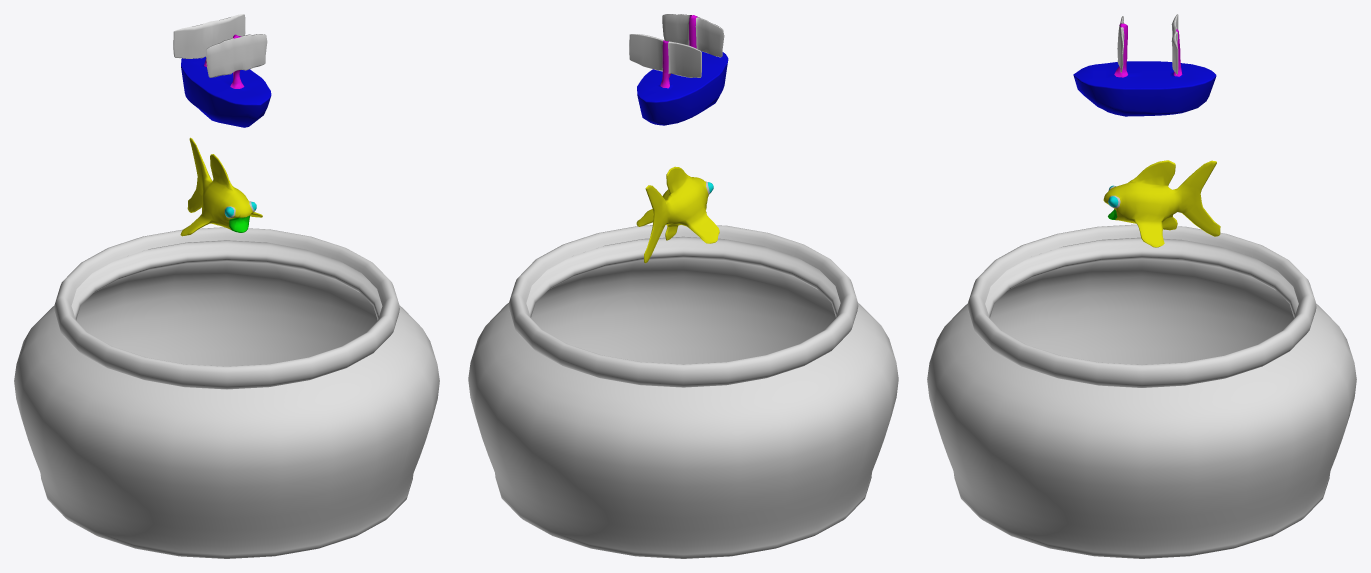
File: Fishbowl.fbx
3 renders of one model, left to right at view 1: azimuth 30°, elevation 25°; view 2: azimuth 150°, elevation 25°; view 3: azimuth 270°, elevation 25°, orthographic.
Parts seen in each view (by area): view 1: Bowl1, Boat4, Goldfish1; view 2: Bowl1, Boat4, Goldfish1; view 3: Bowl1, Boat4, Goldfish1.
Part boxes in pixels (left/top/right/bottom): Bowl1: left=14, top=227, right=439, bottom=558; Boat4: left=173, top=14, right=271, bottom=127; Goldfish1: left=180, top=137, right=262, bottom=236; Bowl1: left=468, top=224, right=898, bottom=558; Boat4: left=629, top=14, right=728, bottom=125; Goldfish1: left=636, top=166, right=719, bottom=263; Bowl1: left=927, top=224, right=1356, bottom=558; Boat4: left=1073, top=14, right=1216, bottom=116; Goldfish1: left=1103, top=160, right=1220, bottom=247.
Size of the model in its own units: 46.46 by 54.74 by 46.46.
